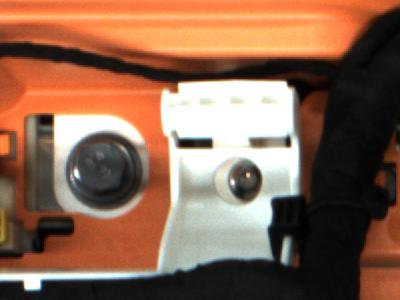nut_b: (64, 128, 141, 209)
